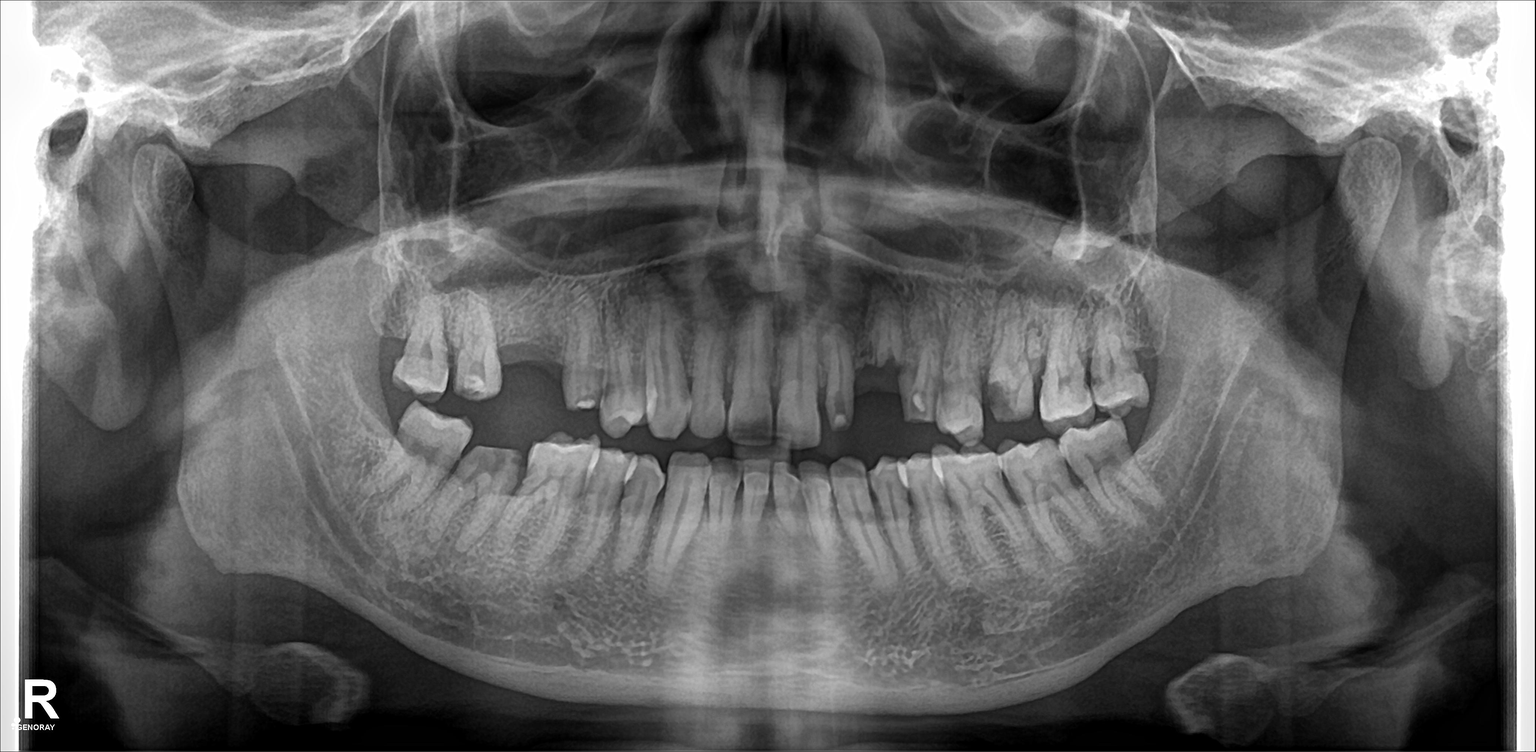Dental Caries: (464, 447, 518, 487)
Missing Tooth: (510, 303, 554, 393), (369, 307, 401, 389)
Retained Root: (864, 302, 907, 419)
